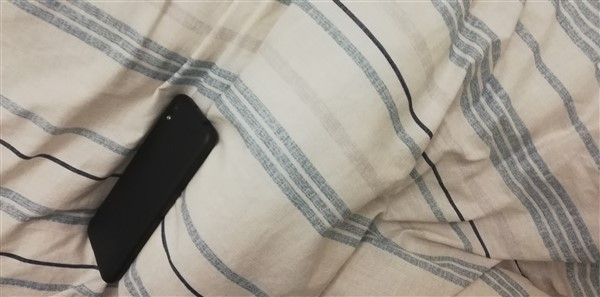telefon: (87, 90, 220, 287)
